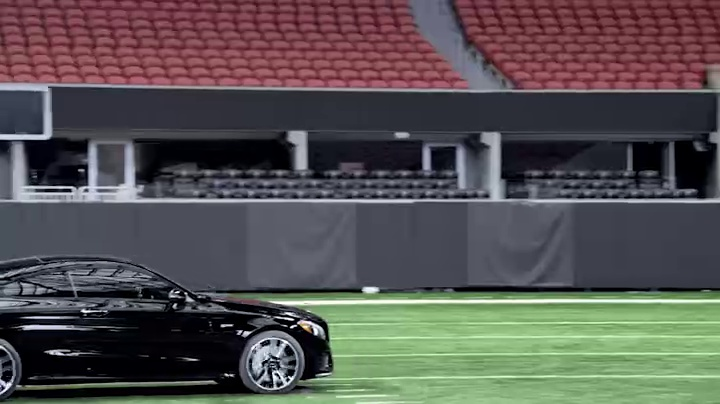amg: (3, 252, 342, 395)
